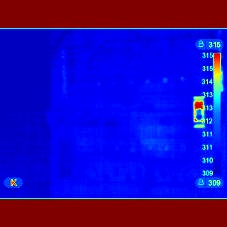Less: (182, 109, 208, 133)
